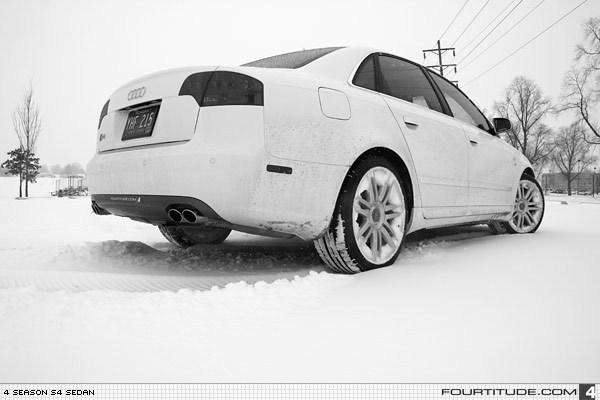car: (86, 44, 547, 275)
